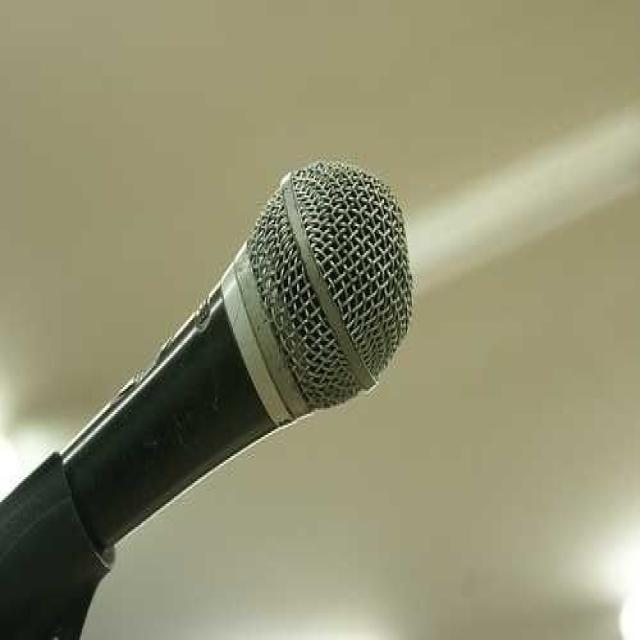microphone: (5, 156, 406, 639)
